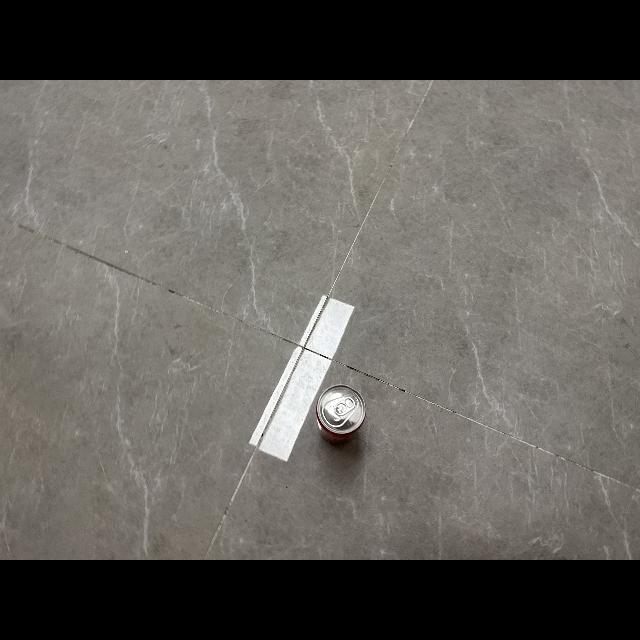Cola: (316, 383, 368, 439)
